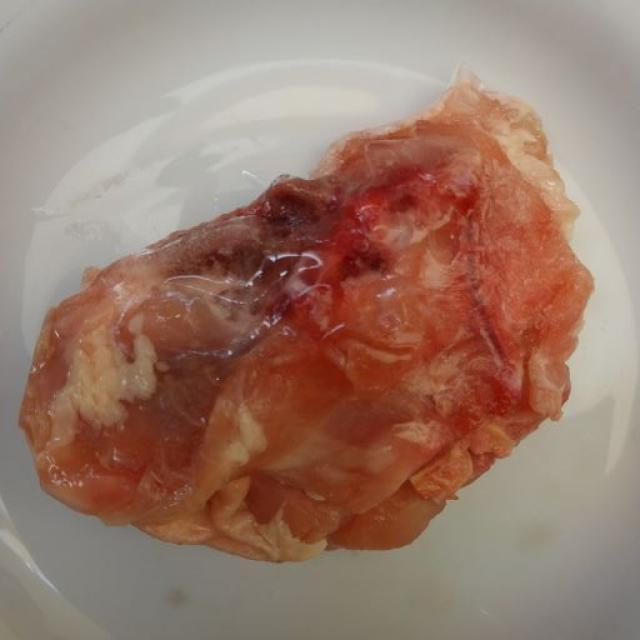chicken: (17, 64, 595, 564)
